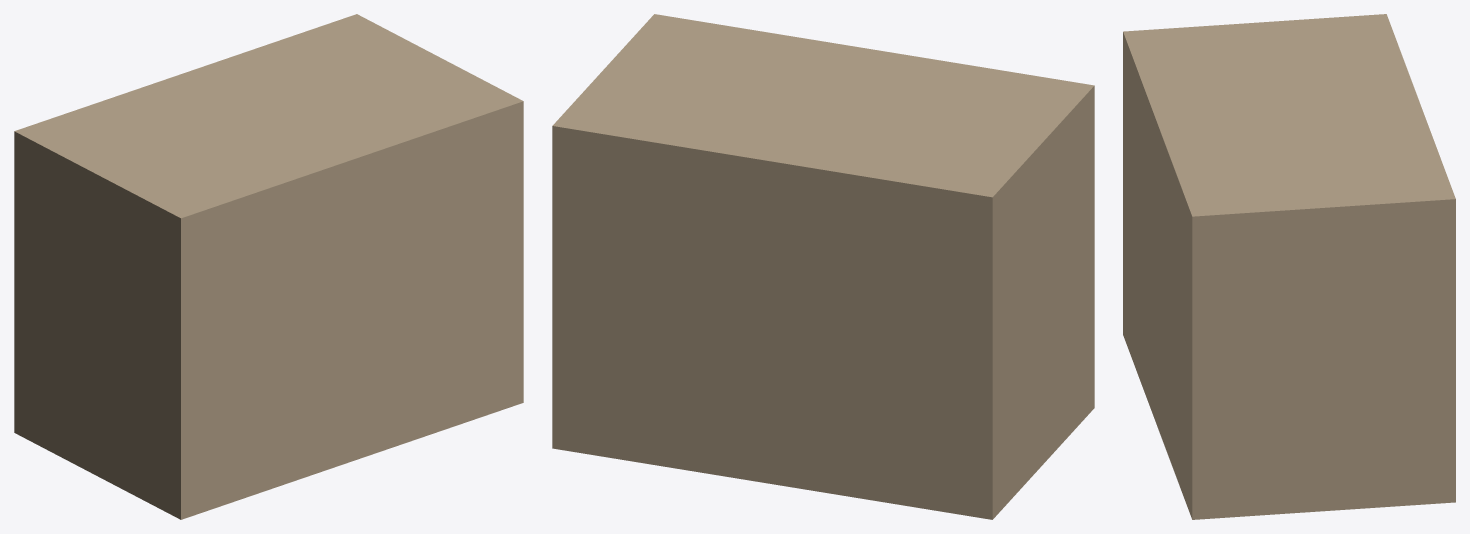
Rendered from bld_101562451.dae.
The picture shows the model from 3 angles, left to right: view 1: azimuth 30°, elevation 25°; view 2: azimuth 150°, elevation 25°; view 3: azimuth 270°, elevation 25°; orthographic projection. The views are drawn at different scales.
Parts seen in each view (by area): view 1: bld_101562451; view 2: bld_101562451; view 3: bld_101562451.
Boxes of the visible parts, x1,y1,x2,y2 form: bld_101562451: (14, 14, 523, 519); bld_101562451: (552, 14, 1094, 519); bld_101562451: (1123, 14, 1455, 519).
Bounding box in the file's own units: 11.46 × 7.96 × 8.
